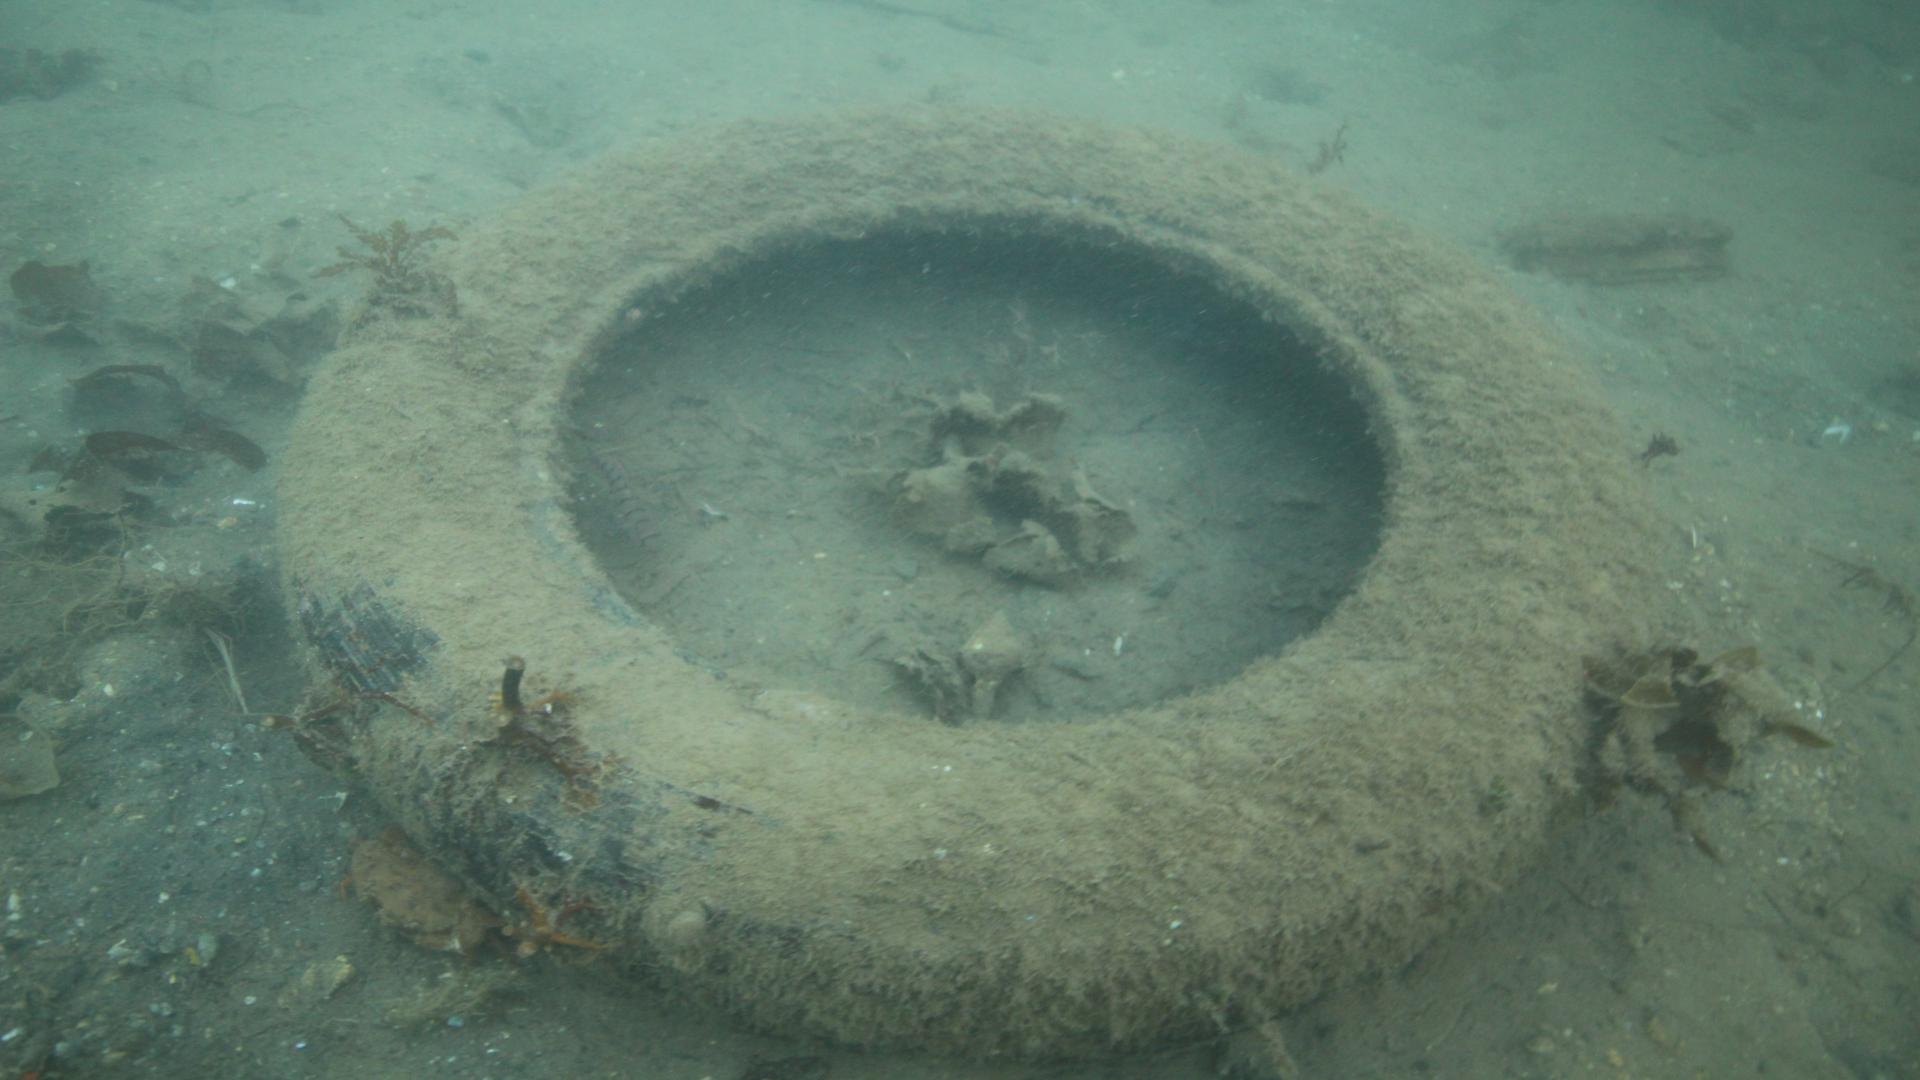tire: (273, 102, 1658, 1064)
